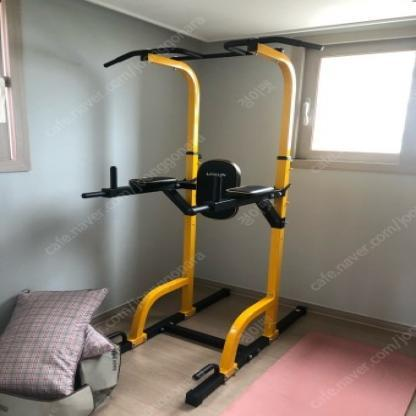chinning dipping: (82, 38, 326, 410)
